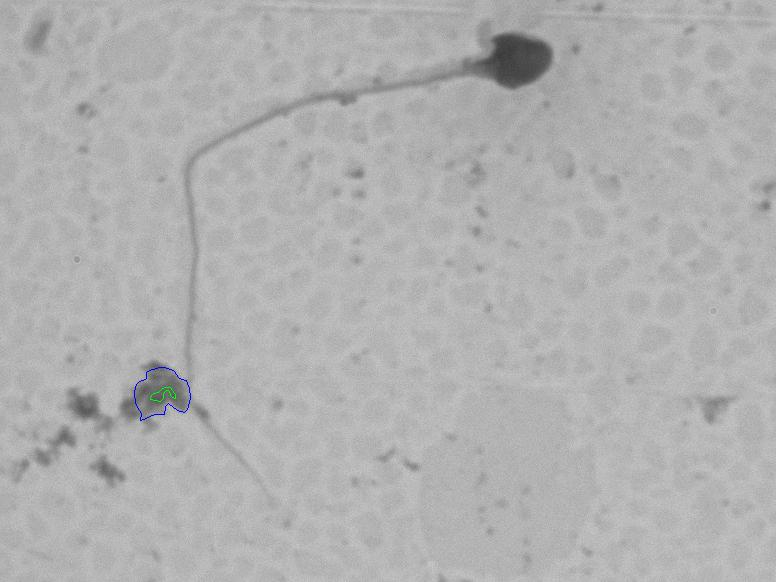Abnormal: (158, 14, 566, 522)
